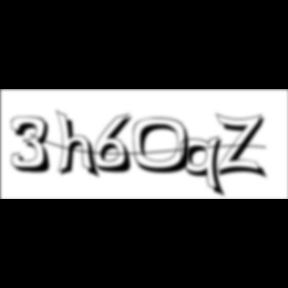3: (11, 116, 57, 176)
6: (94, 112, 138, 176)
O: (132, 117, 198, 176)
Z: (216, 112, 270, 181)
h: (57, 108, 104, 182)
q: (180, 135, 230, 200)
